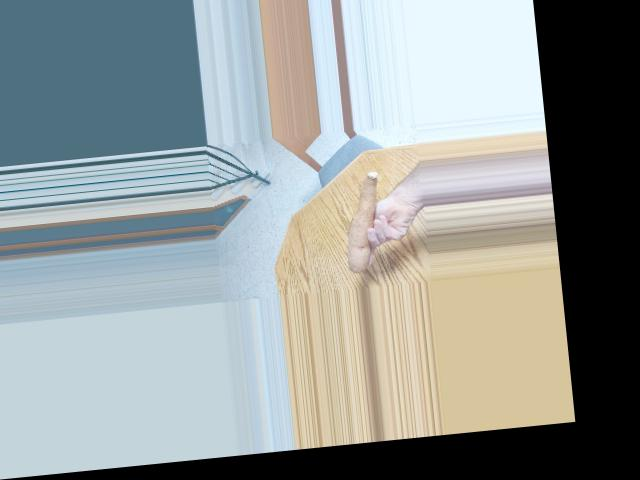sweet_potato: (337, 169, 390, 275)
